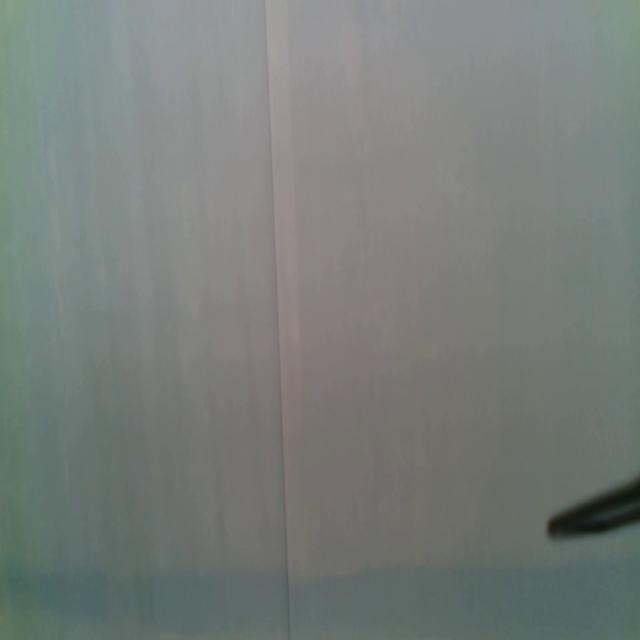color bleeding: (1, 553, 640, 640)
